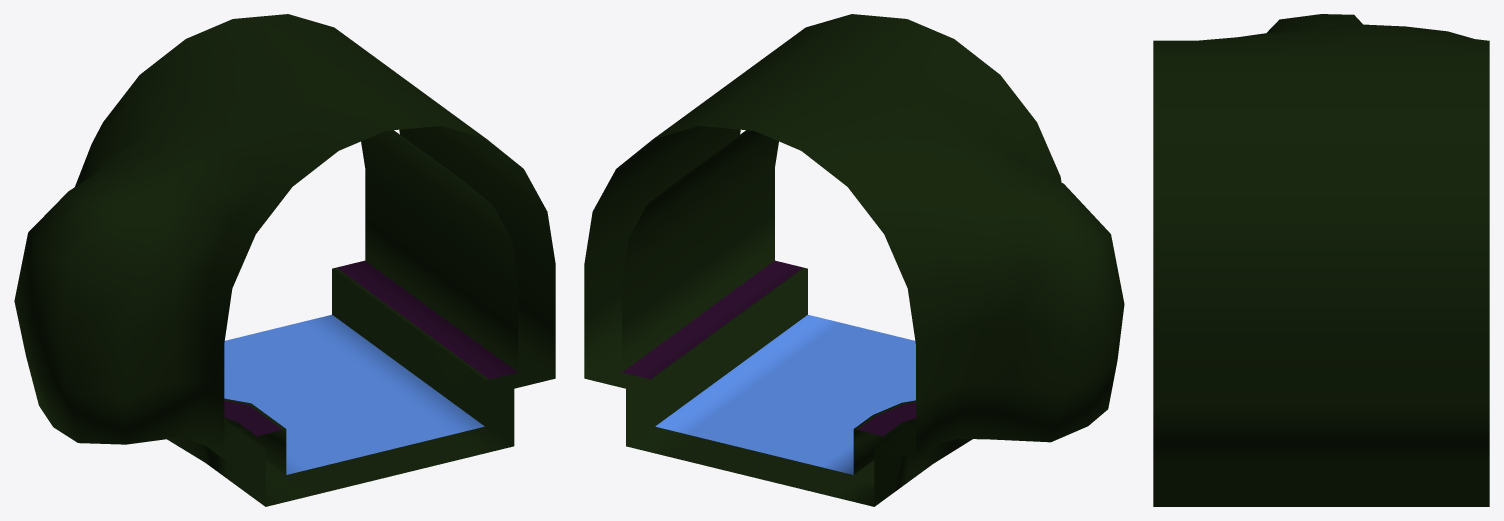
Rendered from Sewer_Modular_Straight_2_001.fbx.
The picture shows the model from 3 angles, left to right: view 1: azimuth 30°, elevation 25°; view 2: azimuth 150°, elevation 25°; view 3: azimuth 270°, elevation 25°; orthographic projection. The views are drawn at different scales.
Visible parts, largest first — view 1: Module_straight.main.016; view 2: Module_straight.main.016; view 3: Module_straight.main.016.
Boxes of the visible parts, box(x1,y1,x2,y2) form: Module_straight.main.016: box(14, 14, 555, 506); Module_straight.main.016: box(584, 14, 1124, 506); Module_straight.main.016: box(1153, 14, 1489, 506).
Bounding box in the file's own units: 1354 × 1001 × 800.
